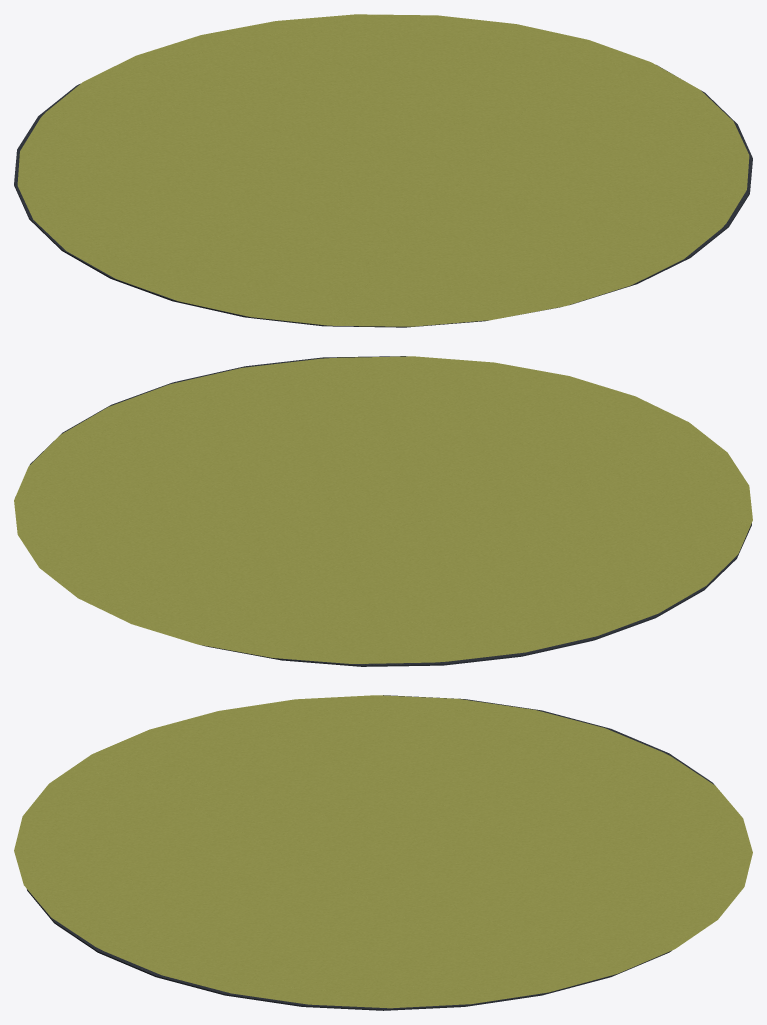
The model's file is Round Rug.glb.
3 renders of one model, top to bottom at view 1: azimuth 30°, elevation 25°; view 2: azimuth 150°, elevation 25°; view 3: azimuth 270°, elevation 25°, orthographic.
Visible parts, largest first — view 1: Round Rug; view 2: Round Rug; view 3: Round Rug.
Part boxes in pixels (<box>): Round Rug: <box>14,14,752,327</box>; Round Rug: <box>14,356,752,666</box>; Round Rug: <box>14,695,752,1010</box>.
Size of the model in its own units: 6.18 by 0.0175 by 6.14.
2 materials, 2 textured.
